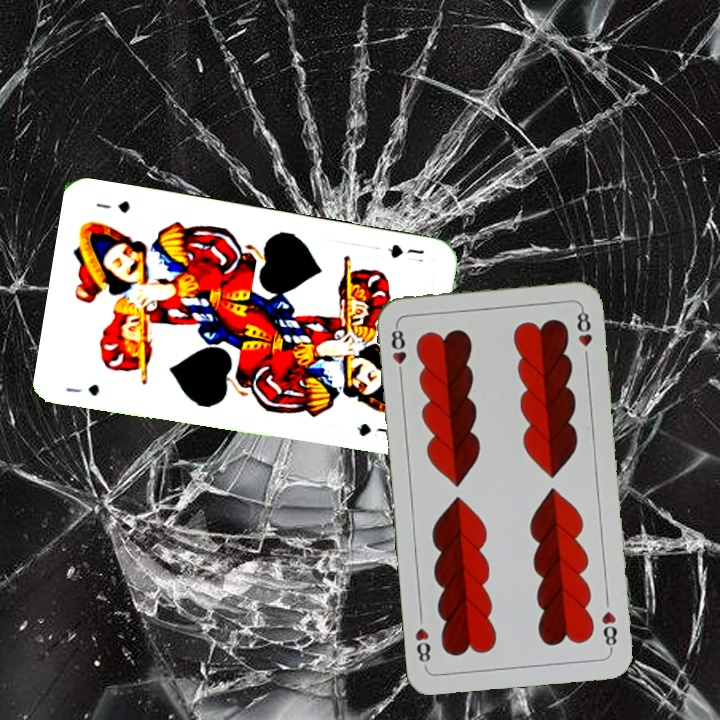GU: (383, 240, 427, 261), (62, 380, 102, 399)
H8: (387, 321, 409, 380), (597, 607, 620, 653)
